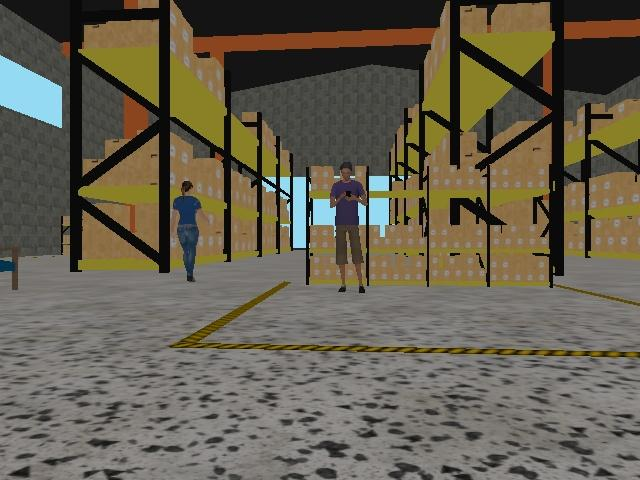person: (329, 161, 371, 295), (169, 180, 214, 283)
